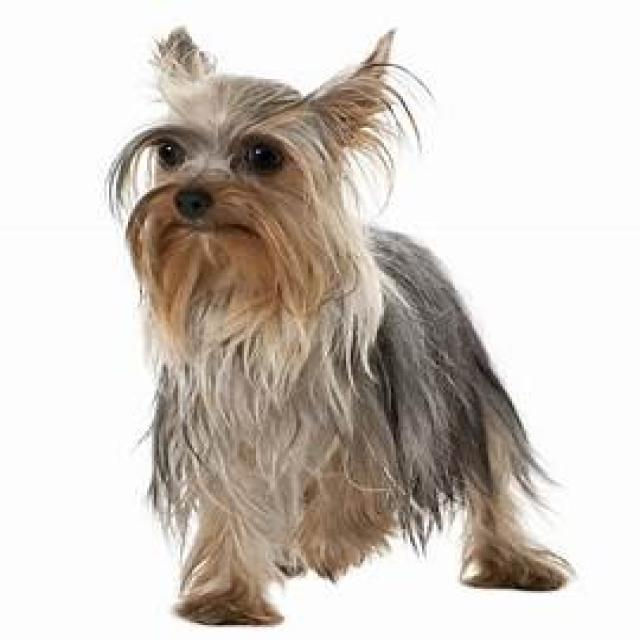KOPEK: (98, 20, 602, 622)
